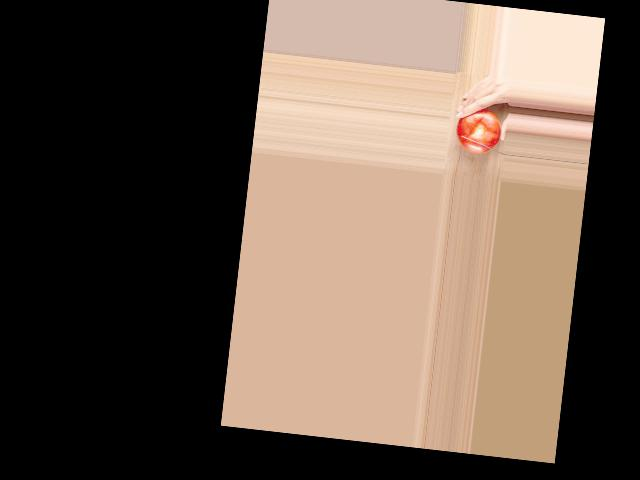tomato: (454, 106, 503, 155)
